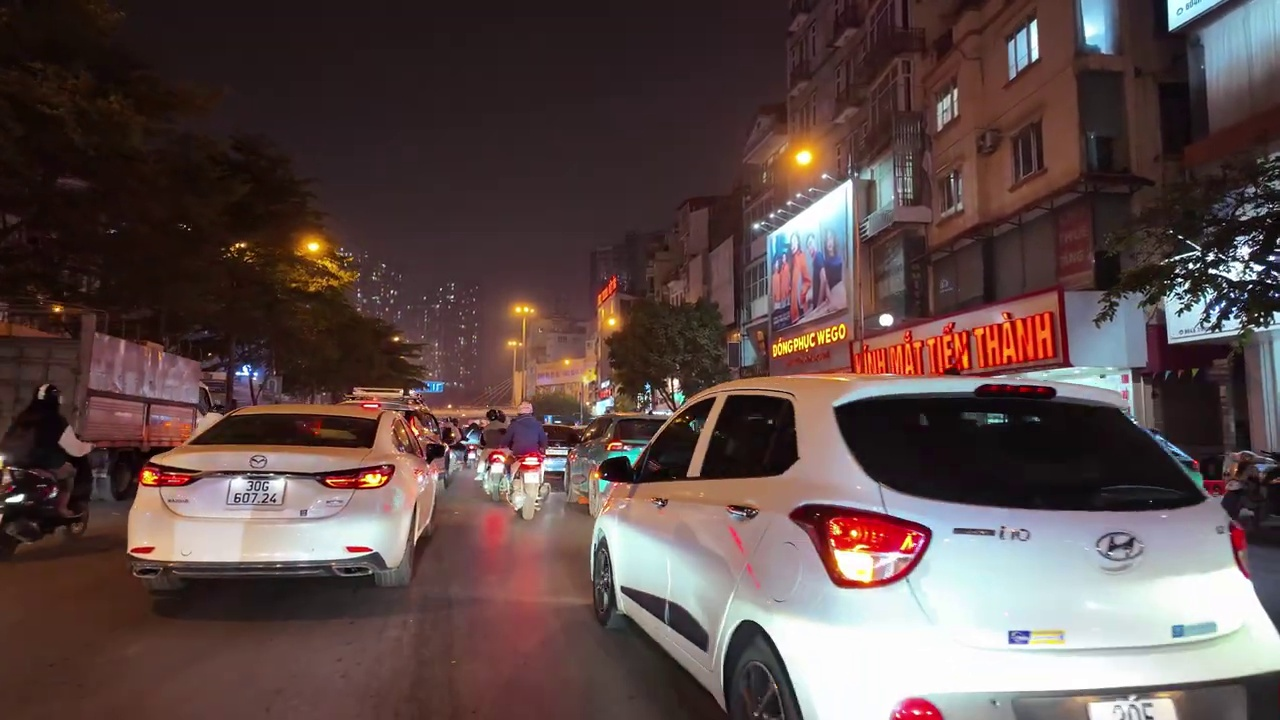acesa: (296, 233, 330, 262), (786, 143, 818, 173), (597, 301, 622, 333), (509, 299, 538, 323)
